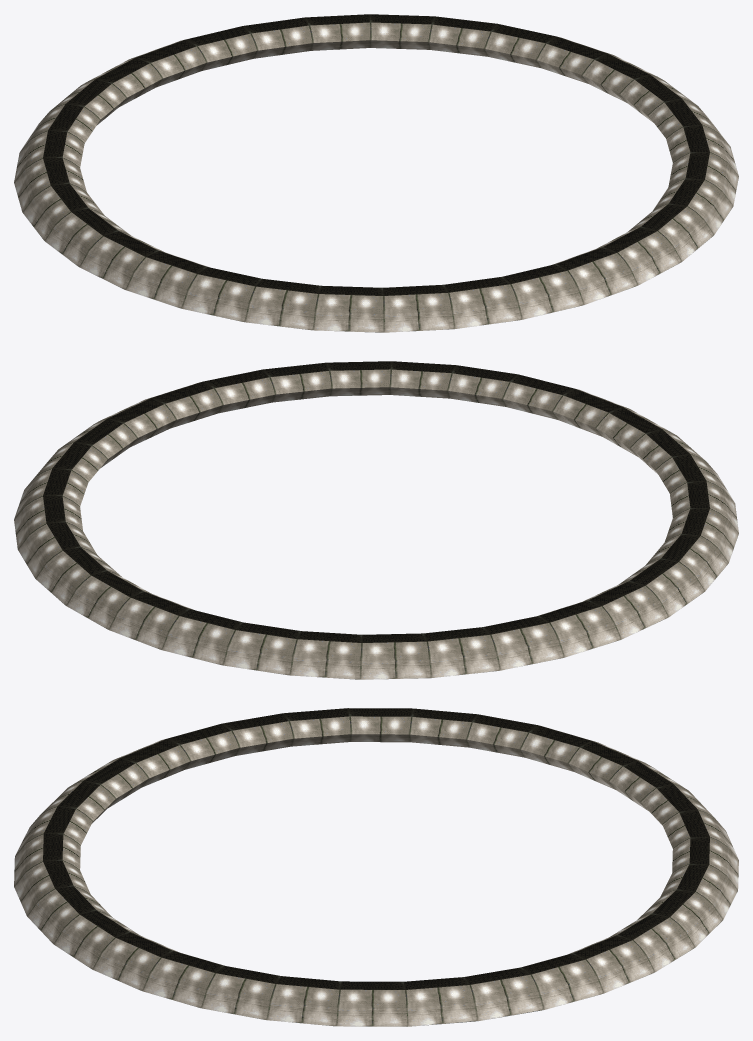
File: Motorcycle paksoi tunnel.fbx
3 renders of one model, top to bottom at view 1: azimuth 30°, elevation 25°; view 2: azimuth 150°, elevation 25°; view 3: azimuth 270°, elevation 25°, orthographic.
Visible parts, largest first — view 1: Circle.025; view 2: Circle.025; view 3: Circle.025.
Part boxes in pixels (bbox=[...]): Circle.025: bbox=[14, 14, 738, 332]; Circle.025: bbox=[14, 361, 738, 679]; Circle.025: bbox=[14, 708, 738, 1026].
Bounding box in the file's own units: 7721 × 288 × 7721.
